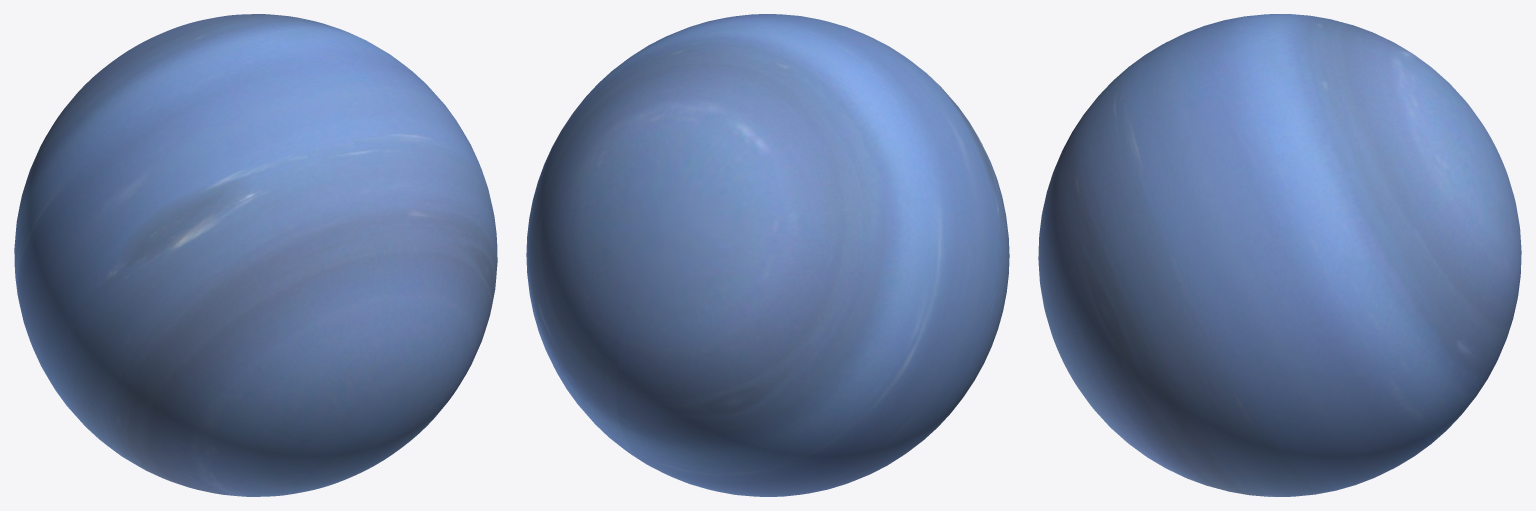
Rendered from neptune1.glb.
The picture shows the model from 3 angles, left to right: view 1: azimuth 30°, elevation 25°; view 2: azimuth 150°, elevation 25°; view 3: azimuth 270°, elevation 25°; orthographic projection.
Parts seen in each view (by area): view 1: Neptune; view 2: Neptune; view 3: Neptune.
Part boxes in pixels (left/top/right/bottom): Neptune: left=14, top=14, right=497, bottom=496; Neptune: left=526, top=14, right=1009, bottom=496; Neptune: left=1038, top=14, right=1521, bottom=496.
Size of the model in its own units: 0.6 by 0.6004 by 0.6001.
Materials: 1 (1 with a texture image).
